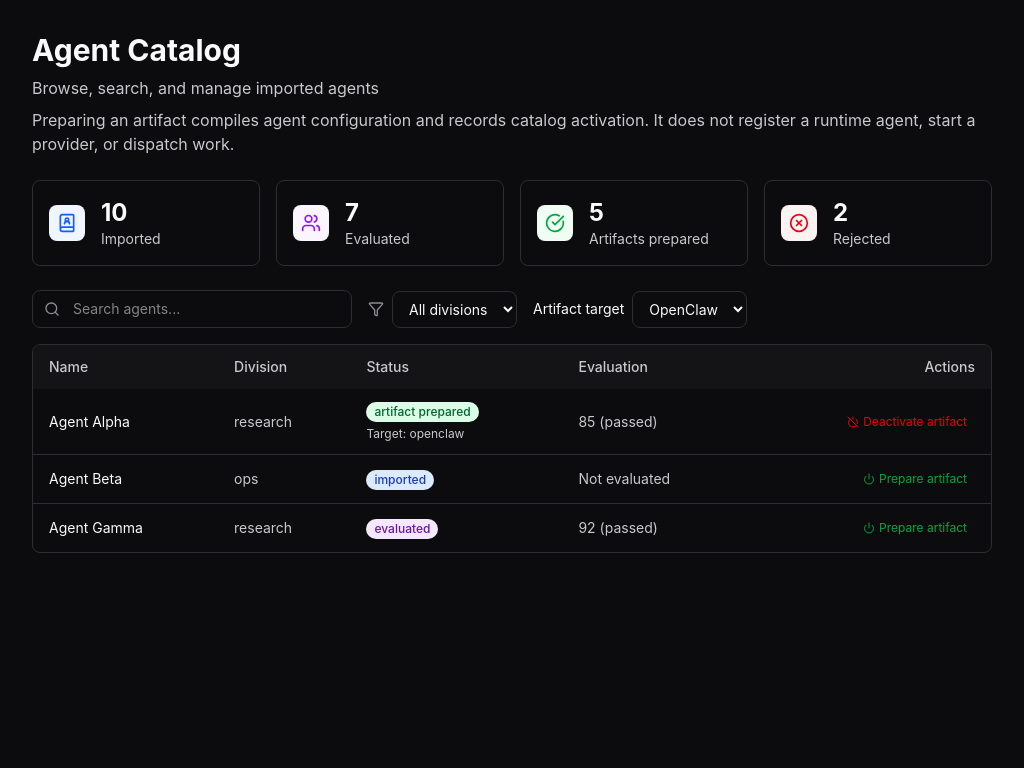
AgentCatalogPage › ignores a late search response after the division changes
Expected: the text "Agent Alpha" is shown, [33,389,218,454]
Type "Alpha" into the field labelled "Search agents".
click(192, 309); type("Alpha")  # box [32,290,352,328]
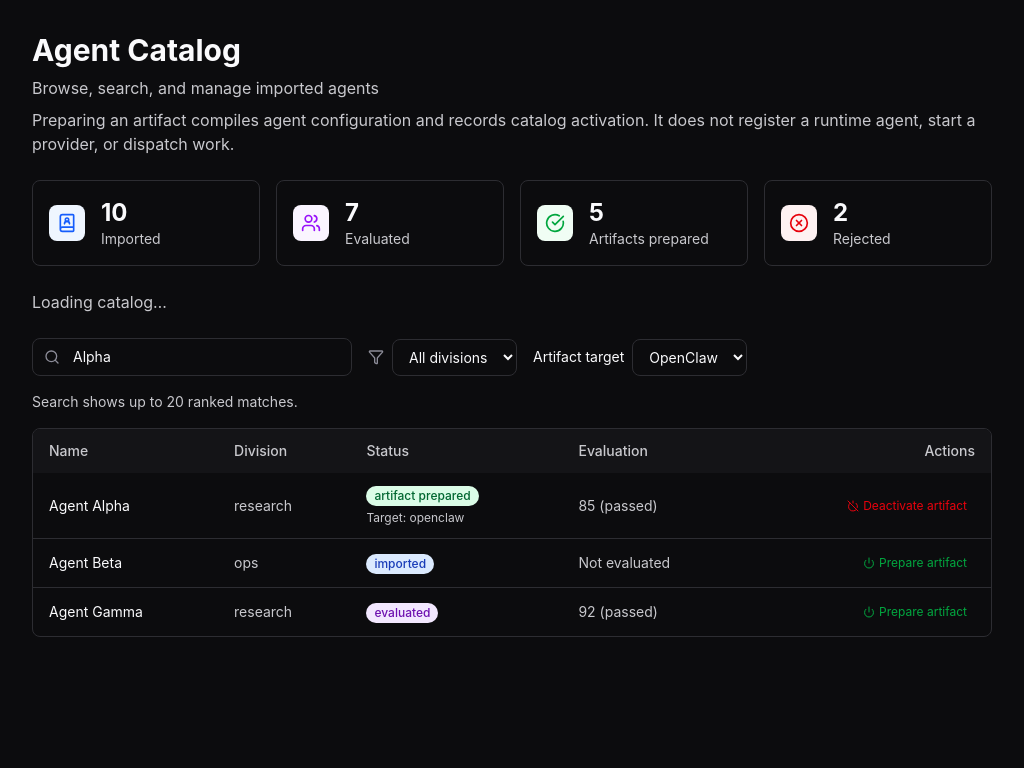
Select "ops" in the dropdown named "Division" at (454, 357), box [392,338,517,376]
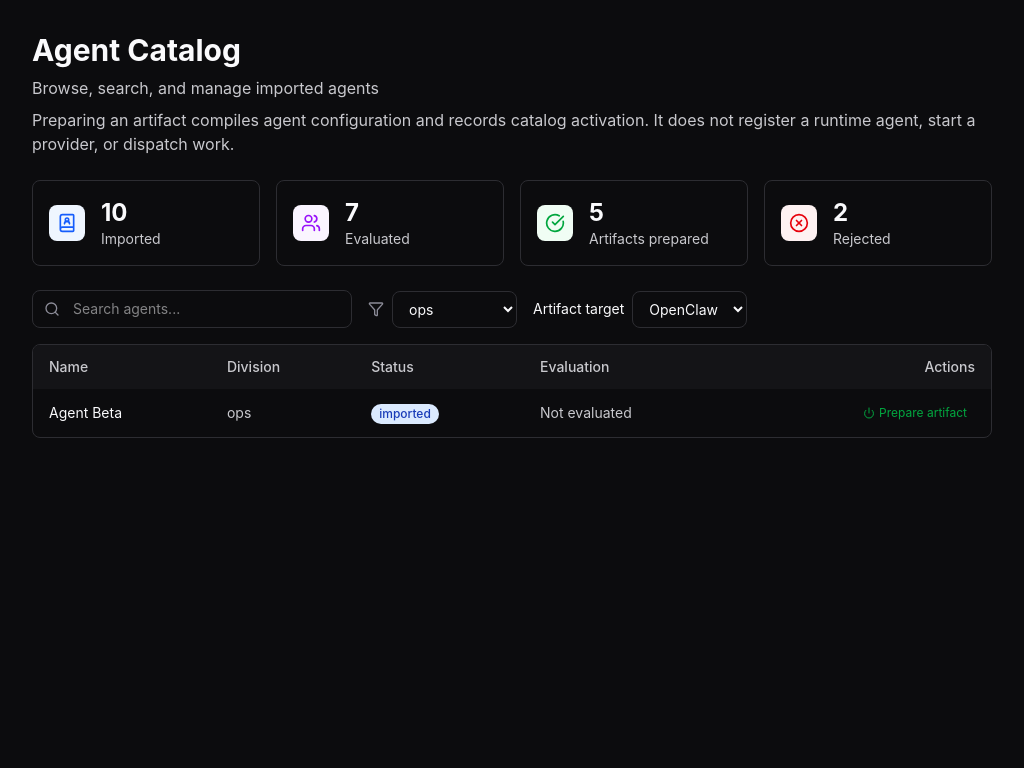
Expected: the text "Agent Beta" is shown, [33,389,211,437]
Expected: the text "Agent Alpha" is gone
